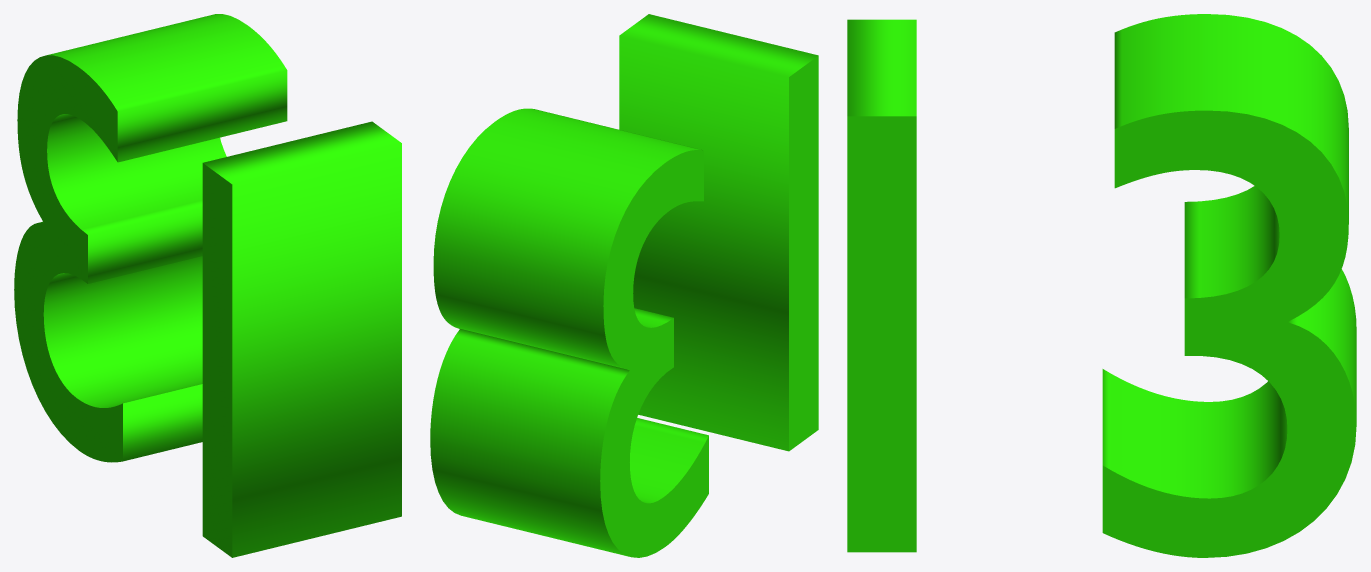
The model's file is number13.obj.
3 renders of one model, left to right at view 1: azimuth 30°, elevation 25°; view 2: azimuth 150°, elevation 25°; view 3: azimuth 270°, elevation 25°, orthographic. The views are drawn at different scales.
Visible parts, largest first — view 1: Text.005_Text.018; view 2: Text.005_Text.018; view 3: Text.005_Text.018.
Part boxes in pixels (<box>): Text.005_Text.018: <box>14,14,401,557</box>; Text.005_Text.018: <box>430,14,818,557</box>; Text.005_Text.018: <box>847,14,1356,557</box>.
Size of the model in its own units: 2.23 by 4.83 by 4.98.
